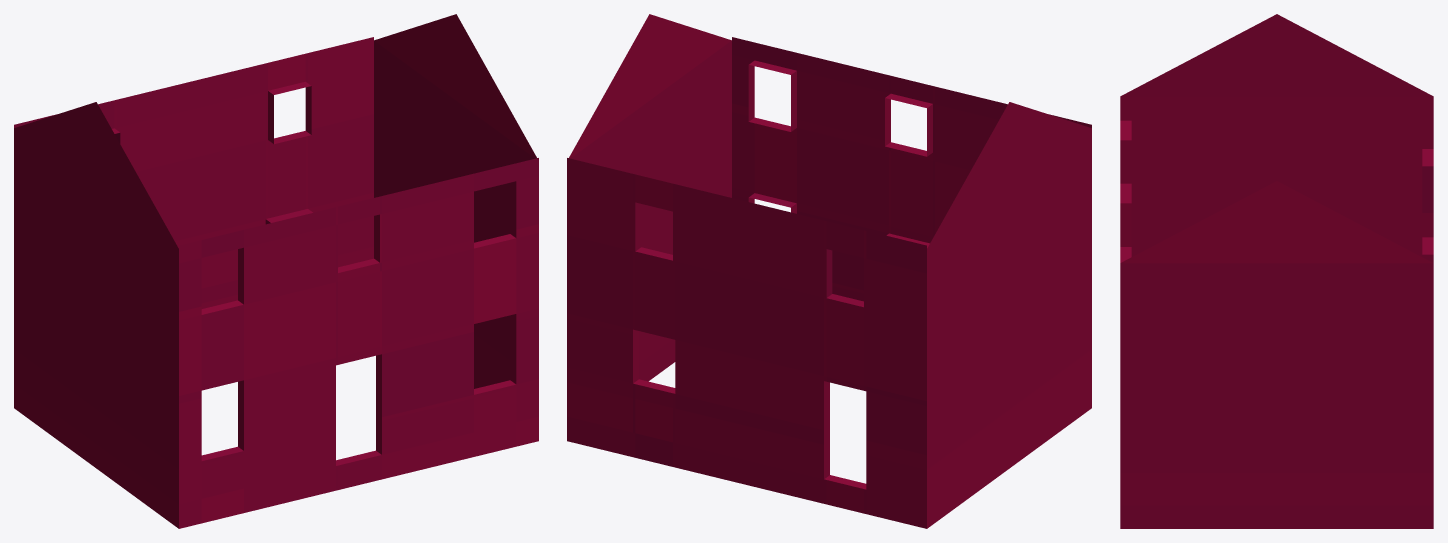
File: SM_Bld_107_Masonry.glb
3 renders of one model, left to right at view 1: azimuth 30°, elevation 25°; view 2: azimuth 150°, elevation 25°; view 3: azimuth 270°, elevation 25°, orthographic. The views are drawn at different scales.
Visible parts, largest first — view 1: SM_Bld_107_Masonry; view 2: SM_Bld_107_Masonry; view 3: SM_Bld_107_Masonry.
Boxes of the visible parts, x1,y1,x2,y2 form: SM_Bld_107_Masonry: (14,14,538,528); SM_Bld_107_Masonry: (567,14,1091,528); SM_Bld_107_Masonry: (1120,14,1433,528).
Bounding box in the file's own units: 7.67 × 7.47 × 6.09.
